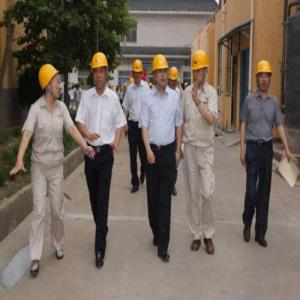yellow: (38, 62, 62, 102), (152, 54, 170, 90), (92, 53, 109, 91), (192, 51, 209, 88), (257, 60, 273, 91), (132, 60, 144, 83), (168, 66, 180, 89)
